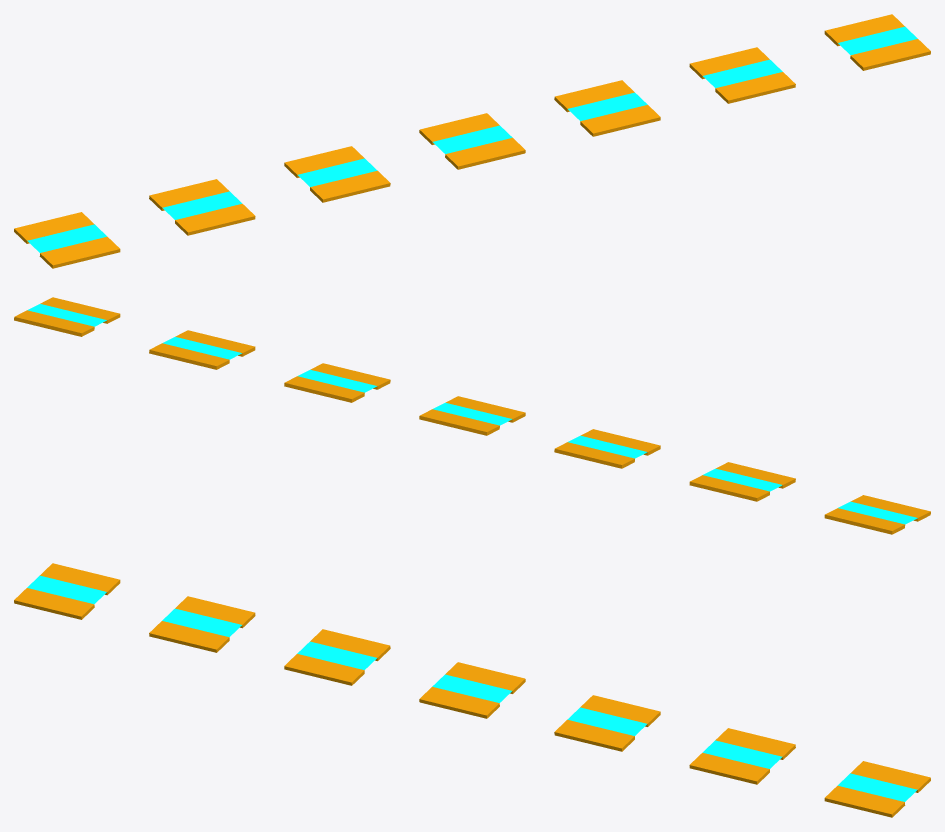
The model's file is rotatingpad.glb.
3 renders of one model, top to bottom at view 1: azimuth 30°, elevation 25°; view 2: azimuth 150°, elevation 25°; view 3: azimuth 330°, elevation 25°, orthographic.
Visible parts, largest first — view 1: Rotatingpad1; view 2: Rotatingpad1; view 3: Rotatingpad1.
Boxes of the visible parts, x1,y1,x2,y2 form: Rotatingpad1: [14, 14, 930, 268]; Rotatingpad1: [14, 297, 930, 534]; Rotatingpad1: [14, 563, 930, 817].
Size of what is drawn, in the model's own units: 39 by 0.5182 by 2.99.
